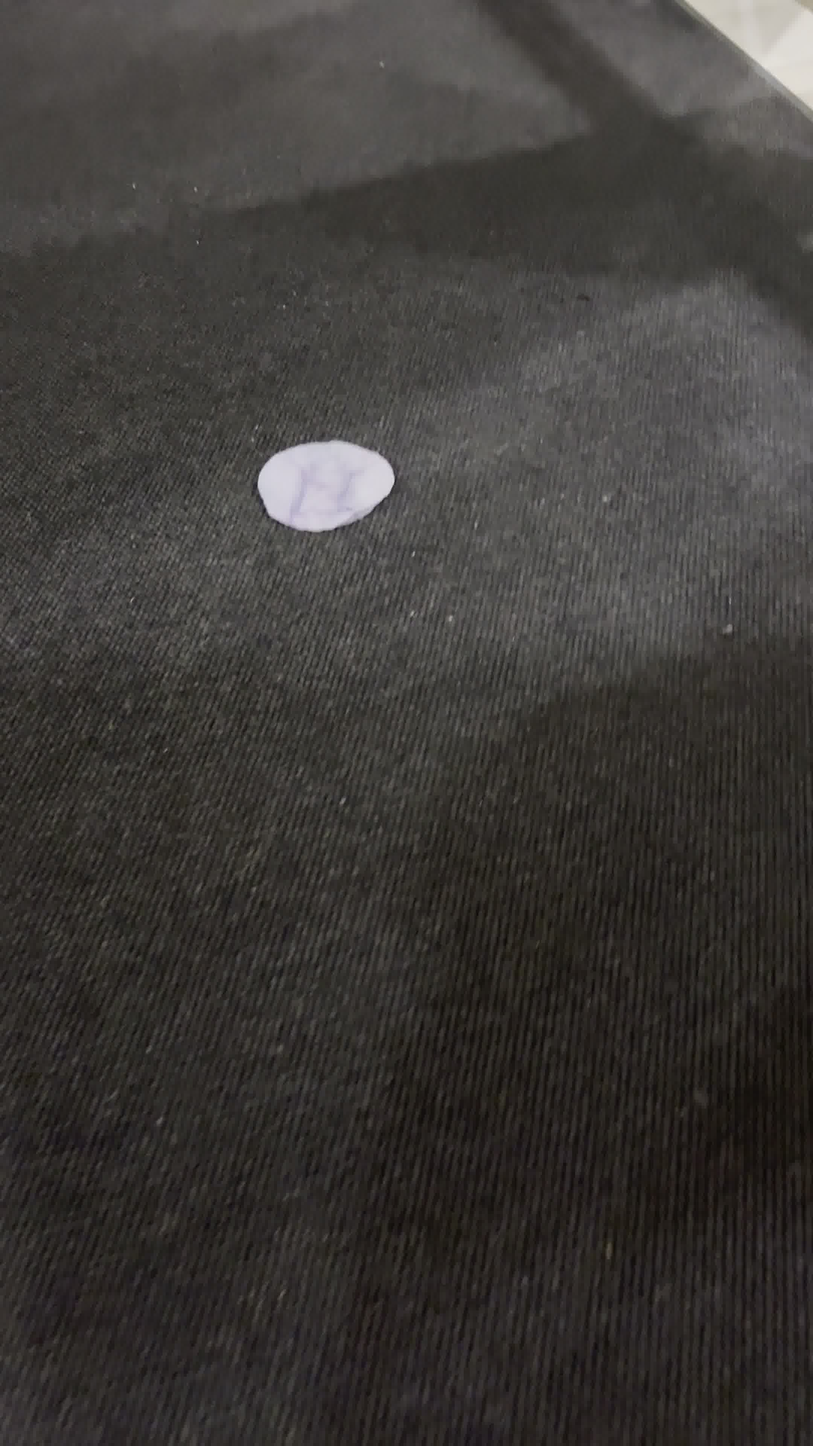Target: (257, 440, 395, 532)
